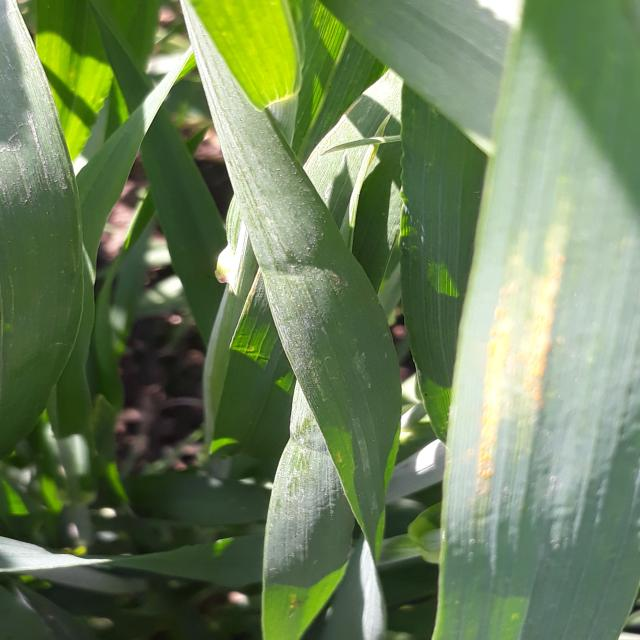yellow_rust: (430, 178, 591, 588), (275, 592, 308, 612), (324, 448, 354, 468)
